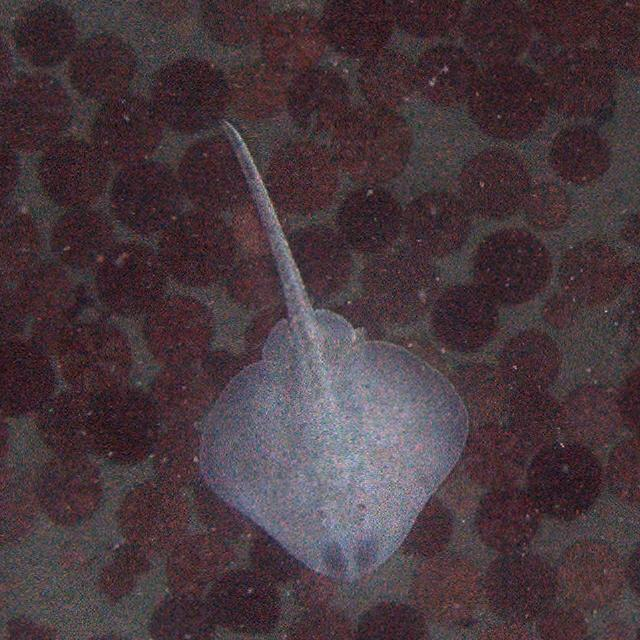skate: (192, 116, 470, 582)
